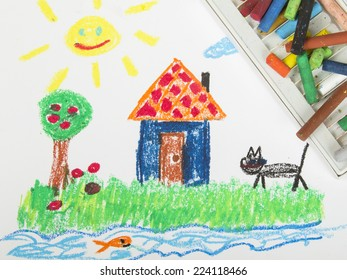building: (126, 56, 228, 187)
cat: (237, 141, 312, 191)
fish: (91, 235, 133, 254)
sun: (15, 1, 160, 93)
tree: (36, 89, 94, 187)
